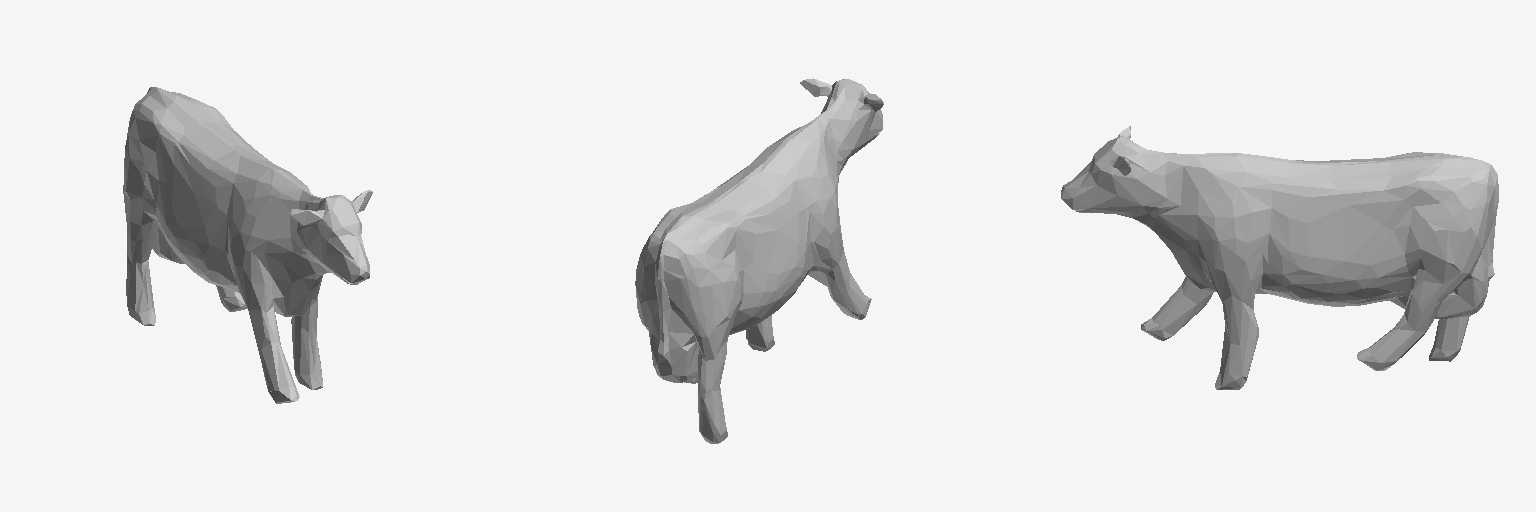
File: step8.obj
3 renders of one model, left to right at view 1: azimuth 30°, elevation 25°; view 2: azimuth 150°, elevation 25°; view 3: azimuth 270°, elevation 25°, orthographic.
Visible parts, largest first — view 1: Cow:cow; view 2: Cow:cow; view 3: Cow:cow.
Boxes of the visible parts, box(x1,y1,x2,y2) form: Cow:cow: box(123, 87, 372, 403); Cow:cow: box(635, 78, 883, 443); Cow:cow: box(1061, 126, 1498, 389).
Bounding box in the file's own units: 4.58 × 11.63 × 19.61.